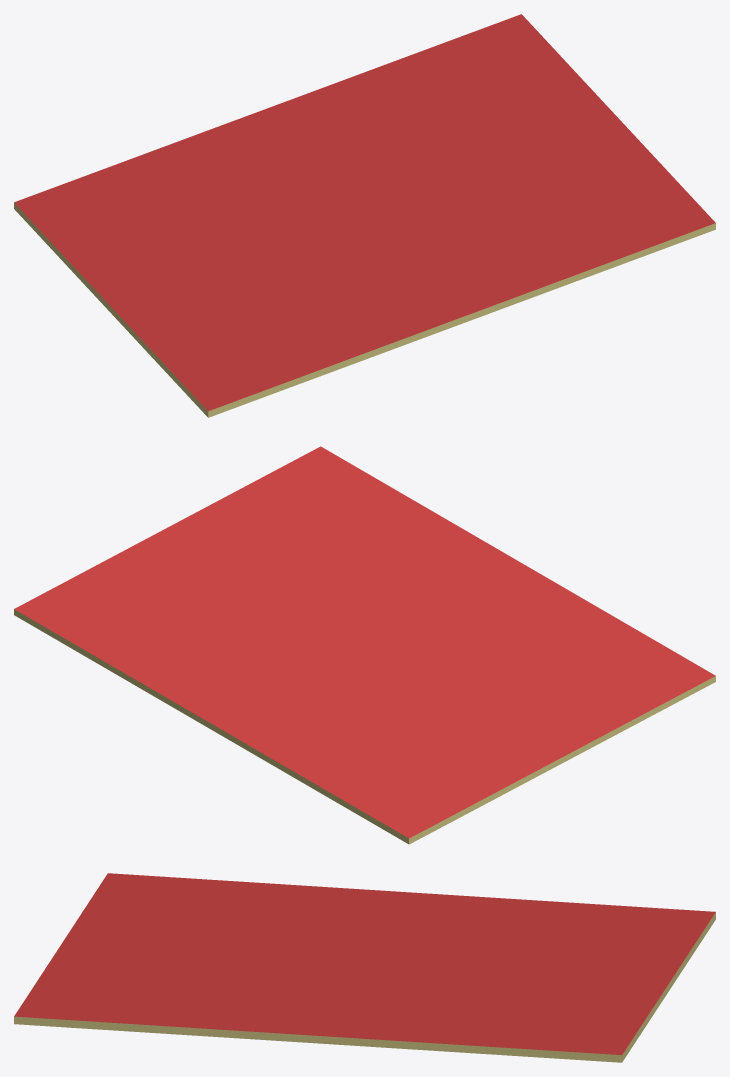
3 views of the same model, one above another, from view 1: azimuth 30°, elevation 25°; view 2: azimuth 150°, elevation 25°; view 3: azimuth 270°, elevation 25° (orthographic). The views are drawn at different scales.
Bounding box in the file's own units: 8.54 × 8.38 × 1.69.
